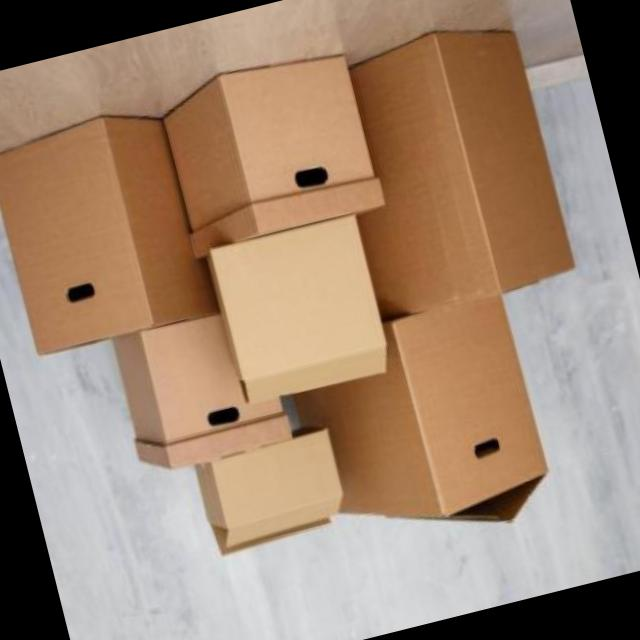box: (261, 252, 573, 587), (314, 0, 600, 332), (136, 11, 402, 264), (0, 80, 225, 369), (185, 182, 408, 410), (97, 278, 319, 488), (170, 418, 352, 564)
